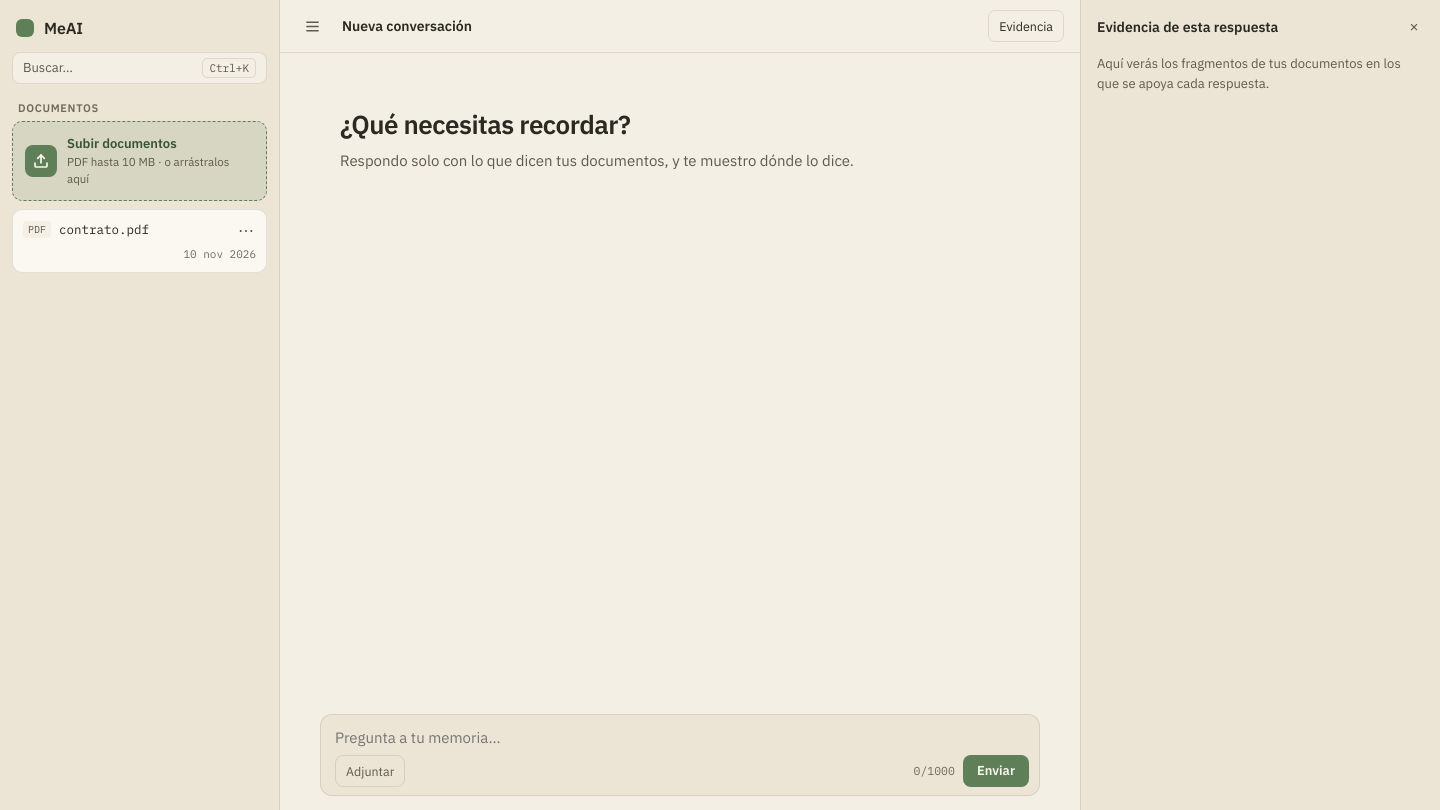
keeps the document in the list and displays an error when deletion fails
Click the button named "Más acciones de contrato.pdf": (246, 230) [230, 214, 262, 246]
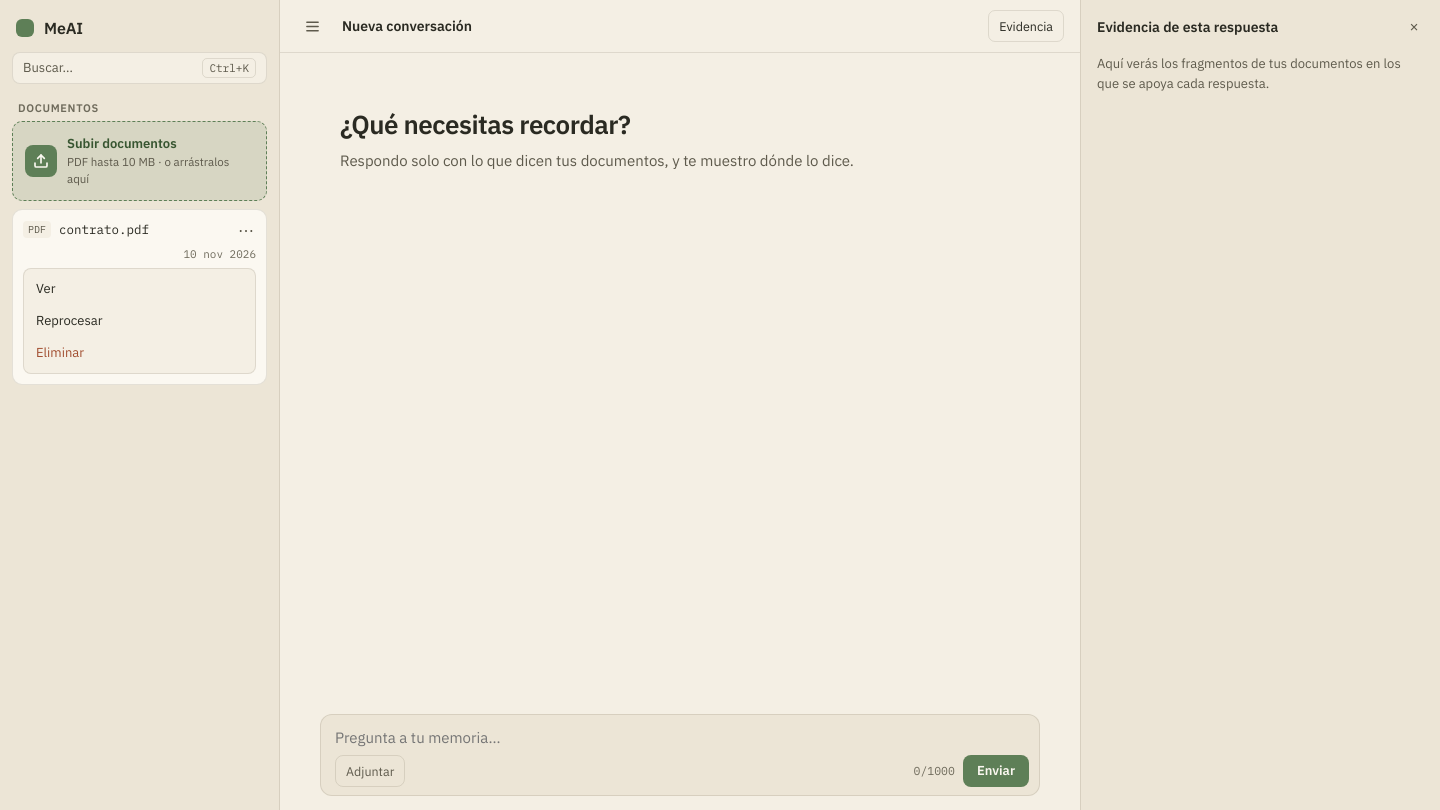
Click the menu item with aria-label "Eliminar contrato.pdf": (140, 353) [28, 337, 251, 369]
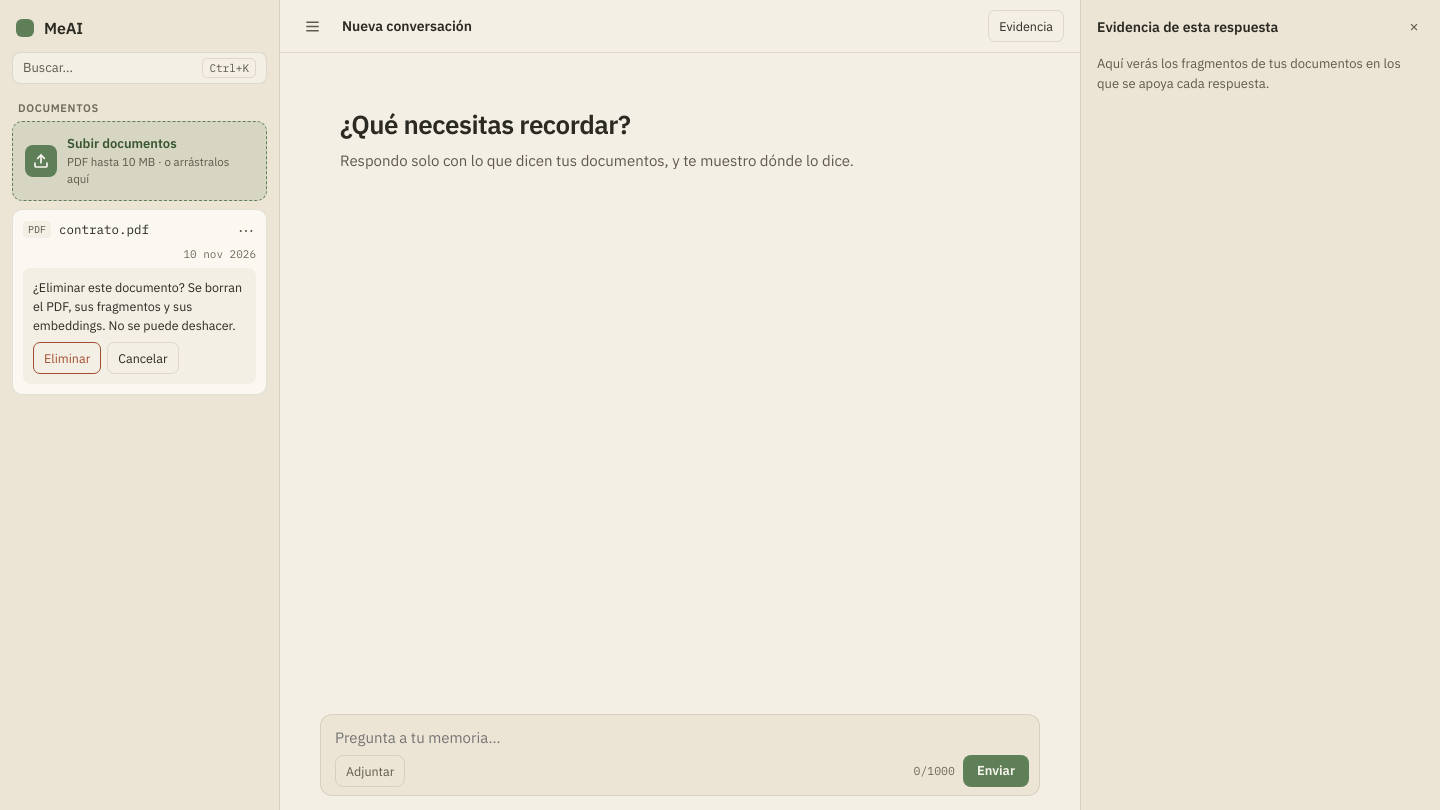
Click the button with aria-label "Confirmar: eliminar contrato.pdf": (67, 358) [33, 342, 101, 374]
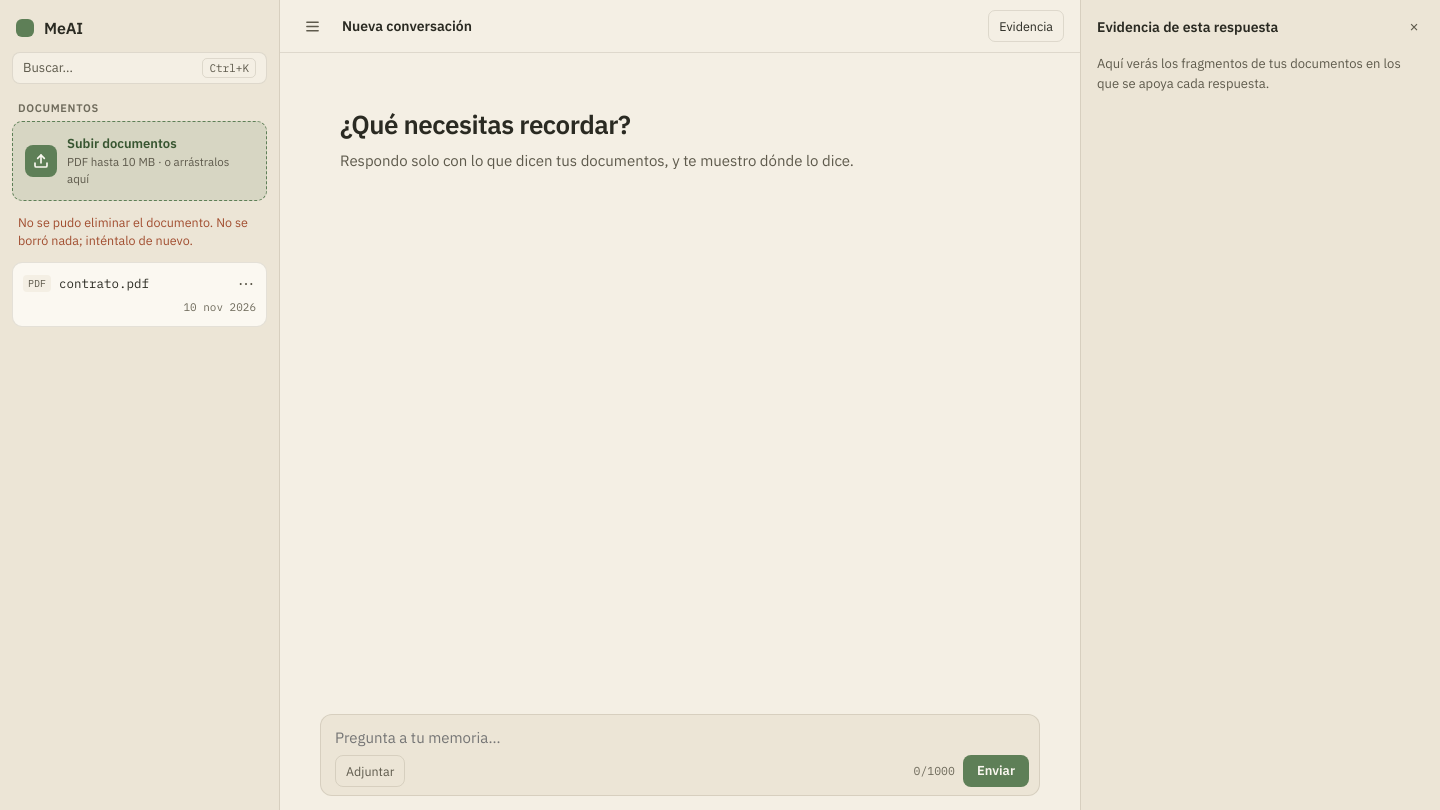
Expected: the element "contrato.pdf" is shown, [12, 262, 267, 326]
Expected: the message shows "No se pudo eliminar el documento", [18, 214, 248, 248]
